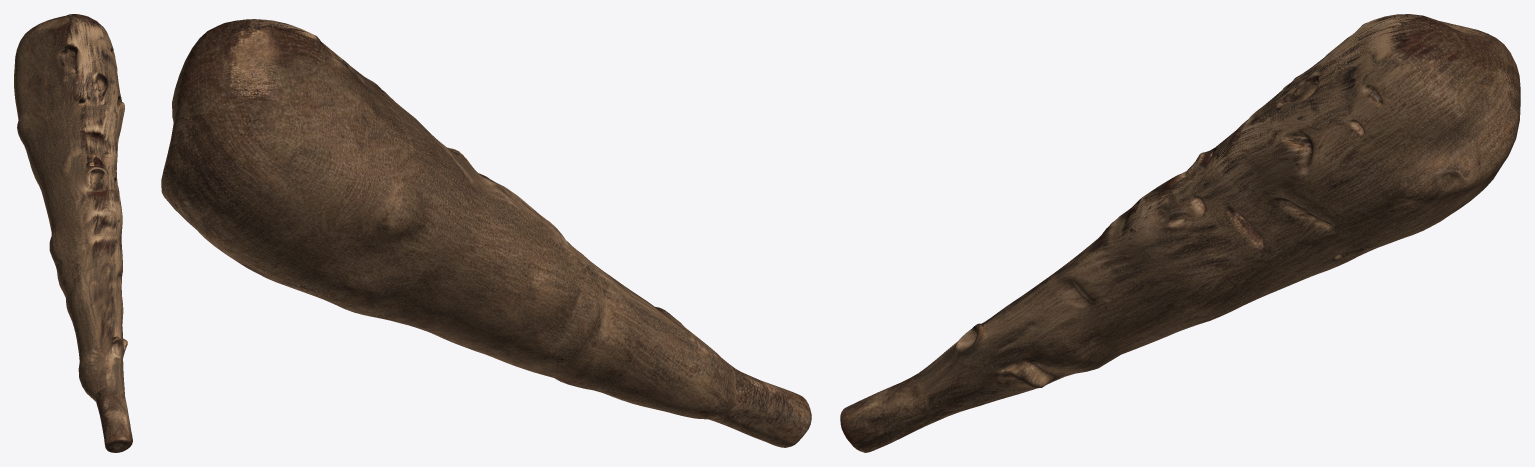
Rendered from club.glb.
3 renders of one model, left to right at view 1: azimuth 30°, elevation 25°; view 2: azimuth 150°, elevation 25°; view 3: azimuth 270°, elevation 25°, orthographic. The views are drawn at different scales.
Visible parts, largest first — view 1: tripo_node_bad9730d-2634-486b-b4e6-730074974311; view 2: tripo_node_bad9730d-2634-486b-b4e6-730074974311; view 3: tripo_node_bad9730d-2634-486b-b4e6-730074974311.
Boxes of the visible parts, bbox=[...] form: tripo_node_bad9730d-2634-486b-b4e6-730074974311: bbox=[14, 14, 132, 452]; tripo_node_bad9730d-2634-486b-b4e6-730074974311: bbox=[161, 19, 811, 447]; tripo_node_bad9730d-2634-486b-b4e6-730074974311: bbox=[840, 14, 1520, 452].
Bounding box in the file's own units: 0.479 × 0.8608 × 0.9995.
Materials: 1 (1 with a texture image).
